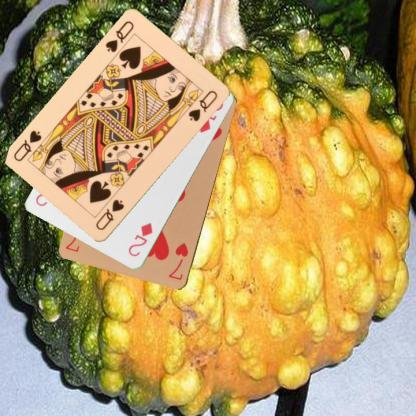2d: (126, 220, 154, 258)
7h: (166, 240, 190, 282)
Qs: (92, 197, 126, 232), (102, 18, 135, 54)
